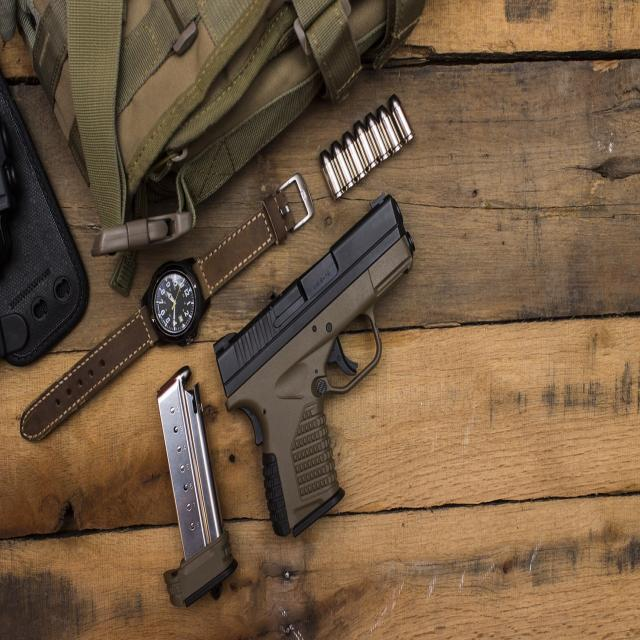Gun: (214, 195, 414, 535)
